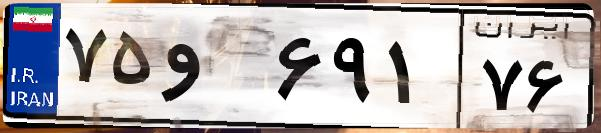1: (385, 28, 445, 110)
5: (110, 28, 158, 98)
6: (270, 28, 330, 110), (525, 38, 570, 115)
7: (57, 26, 110, 100), (475, 38, 525, 113)
9: (330, 28, 385, 110)
و: (158, 20, 270, 120)
